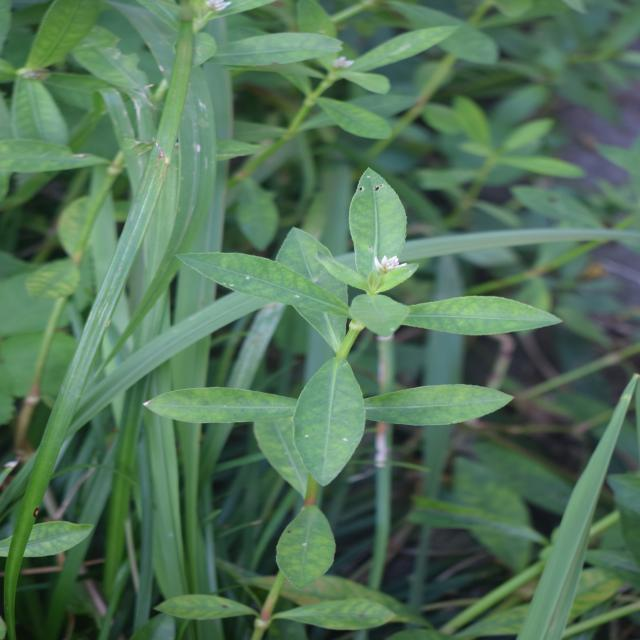Alligatorweed: (162, 148, 470, 530)
